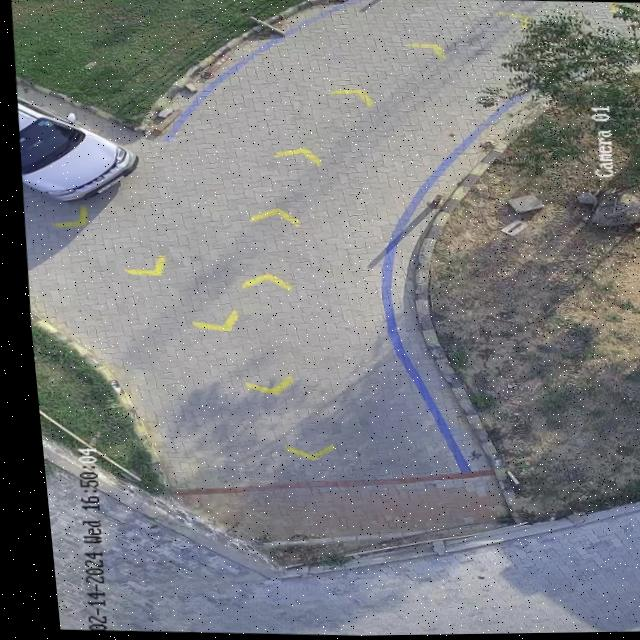car: (16, 95, 133, 201)
